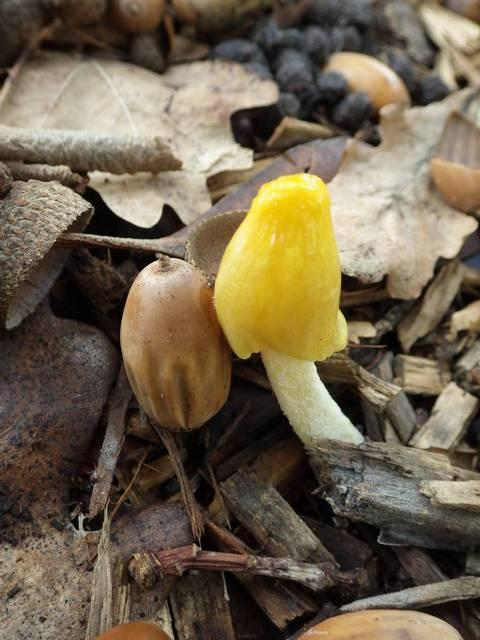edible_mushroom: (211, 171, 366, 454), (118, 252, 232, 432)
